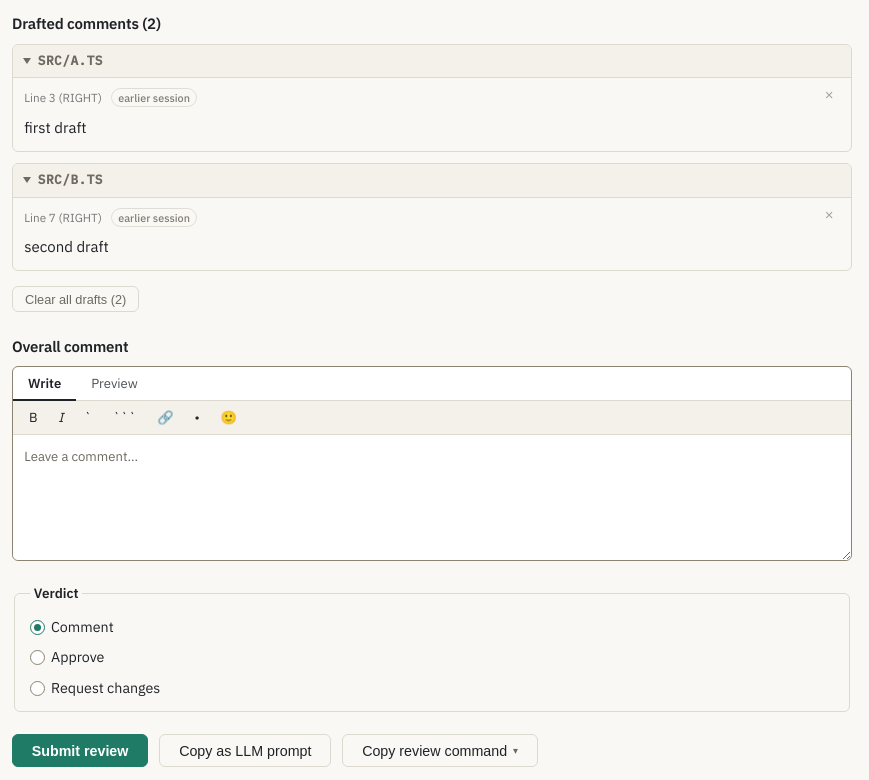
Test: VerdictStep — recap draft lifecycle › remove button deletes exactly that draft and the recap updates live
Expected: the heading "Drafted comments (2)" is shown, [12, 14, 161, 33]
Click the button named "Remove draft at src/a.ts line 3" at (829, 95), box [818, 85, 840, 104]
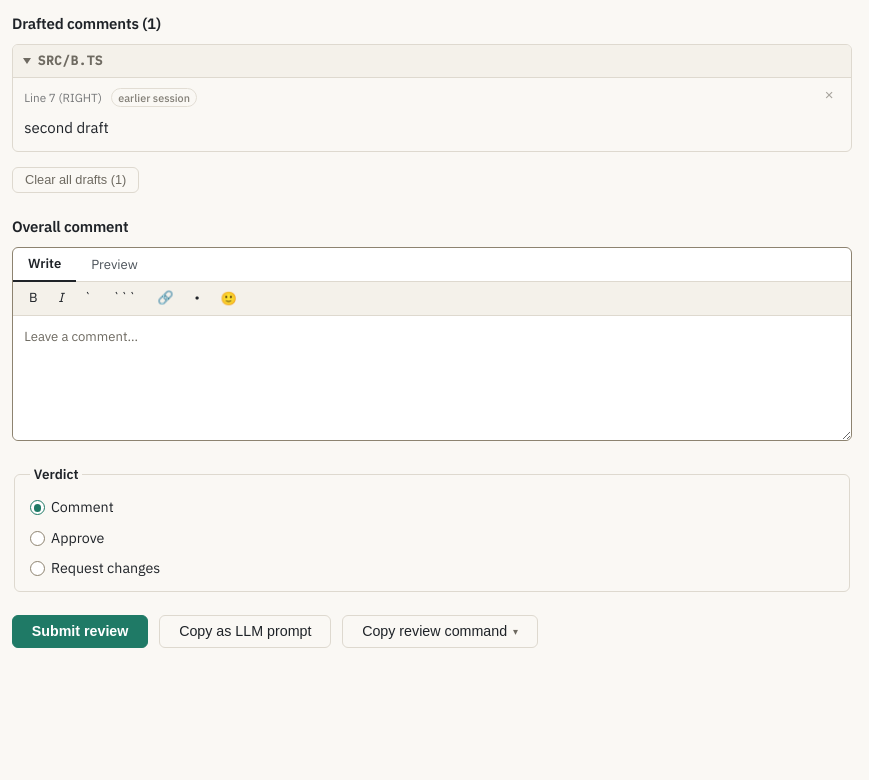
Expected: the text "second draft" is shown, [24, 118, 109, 137]
Result: the heading "Drafted comments (1)" is shown at [12, 14, 161, 33]
Result: the text "first draft" is gone
